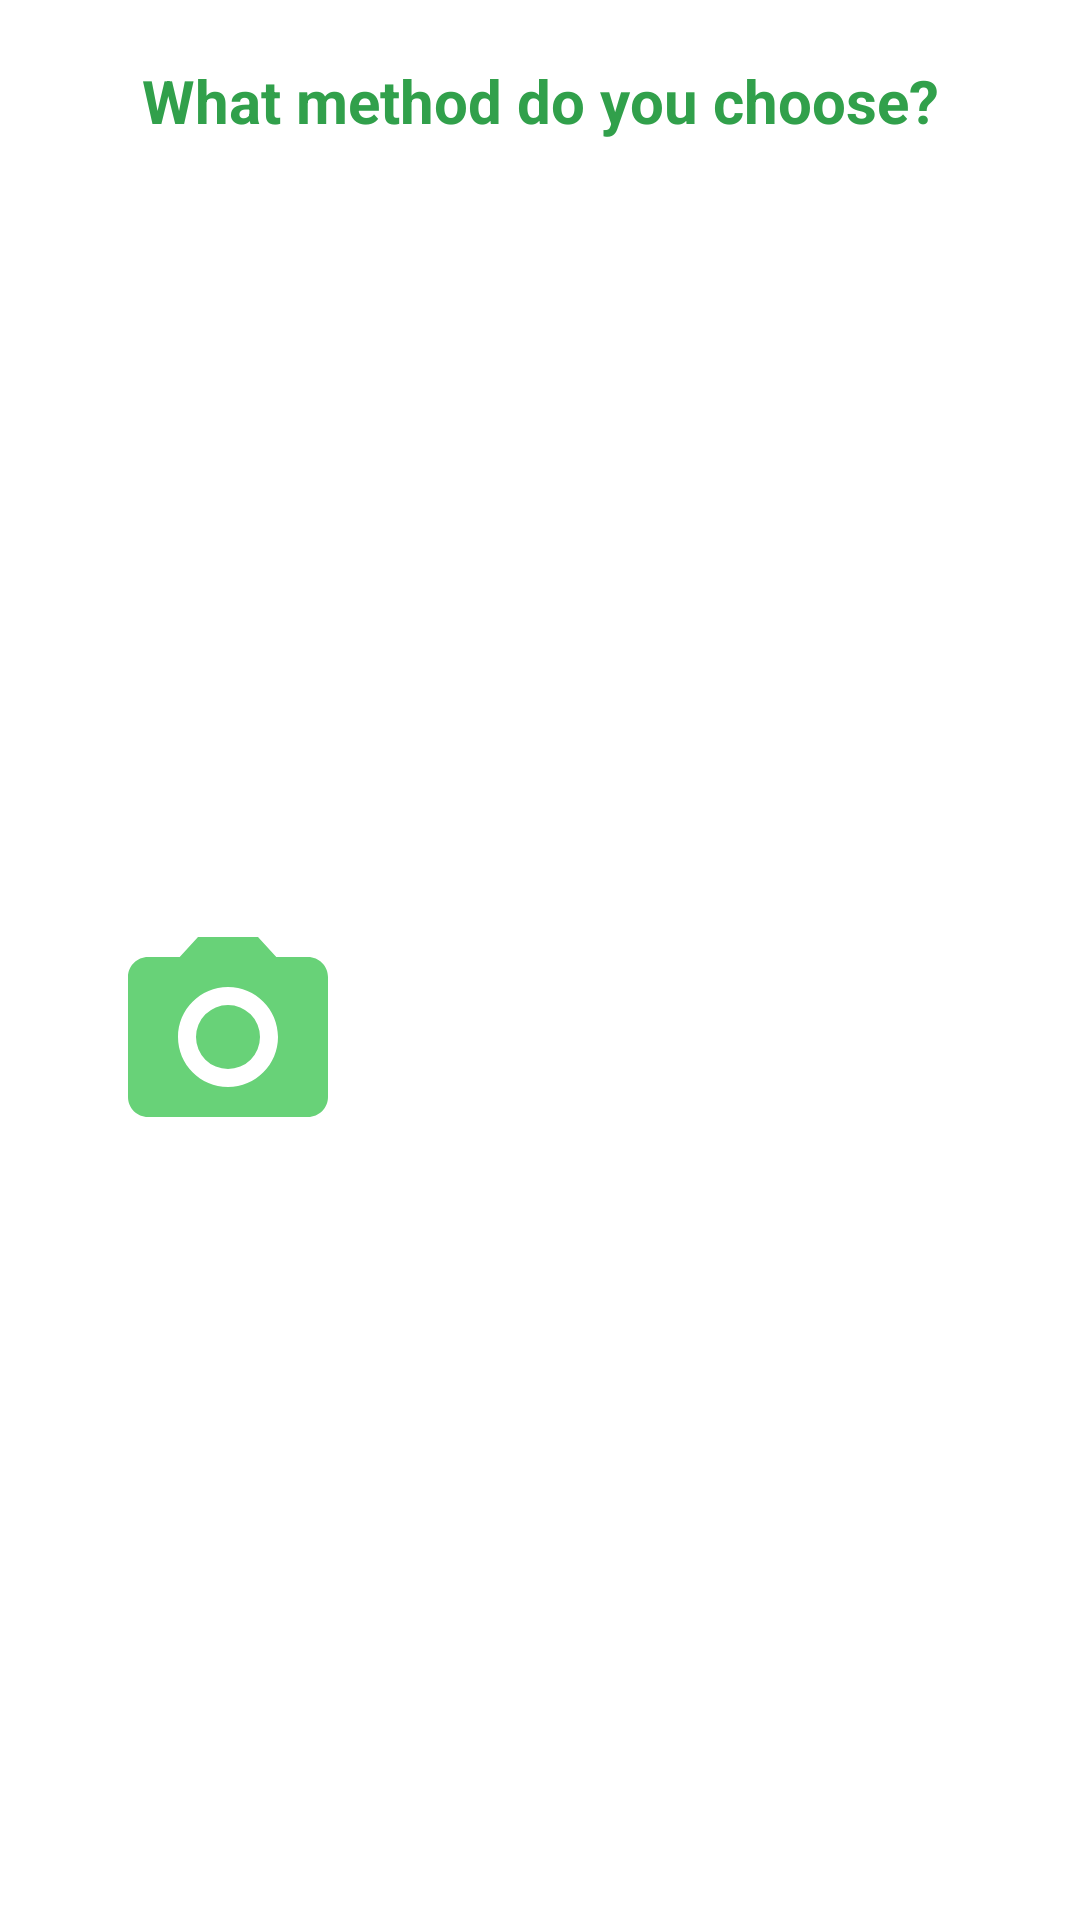

Point at icon controls on the screen. Image size 1080w x 1920h, points as (x,y).
camera: (228,1027)
